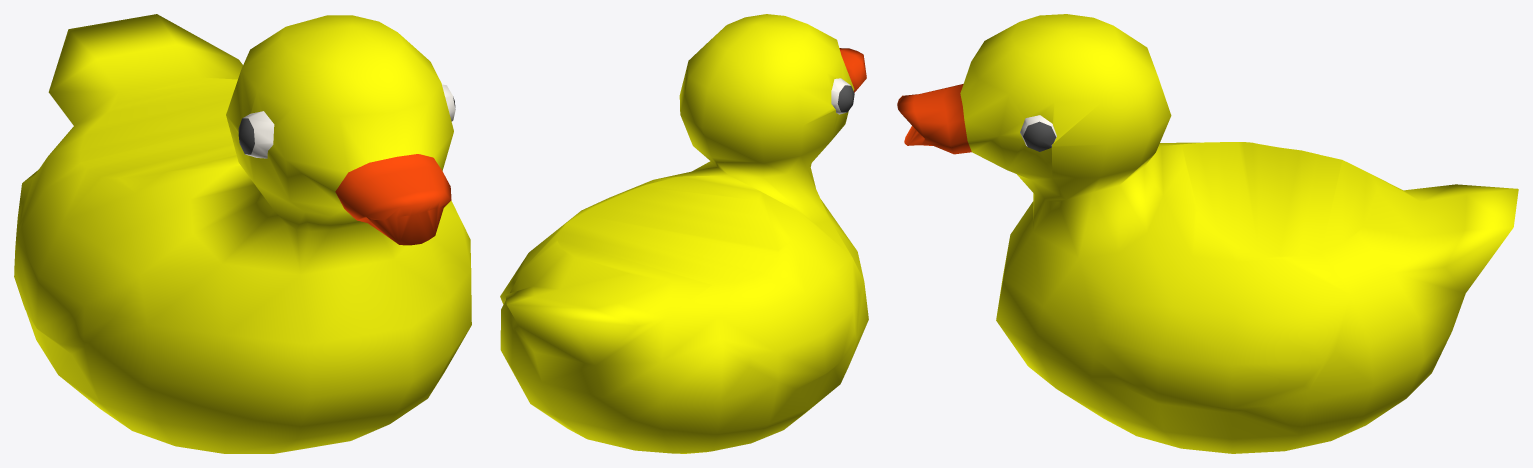
3 views of the same model, side by side, from view 1: azimuth 30°, elevation 25°; view 2: azimuth 150°, elevation 25°; view 3: azimuth 270°, elevation 25° (orthographic). The views are drawn at different scales.
Parts seen in each view (by area): view 1: Group_001; view 2: Group_001; view 3: Group_001.
Part boxes in pixels (x1=…): Group_001: x1=14, y1=14, x2=471, y2=453; Group_001: x1=500, y1=14, x2=868, y2=453; Group_001: x1=897, y1=14, x2=1518, y2=453.
Bounding box in the file's own units: 1203 × 1342 × 1926.
